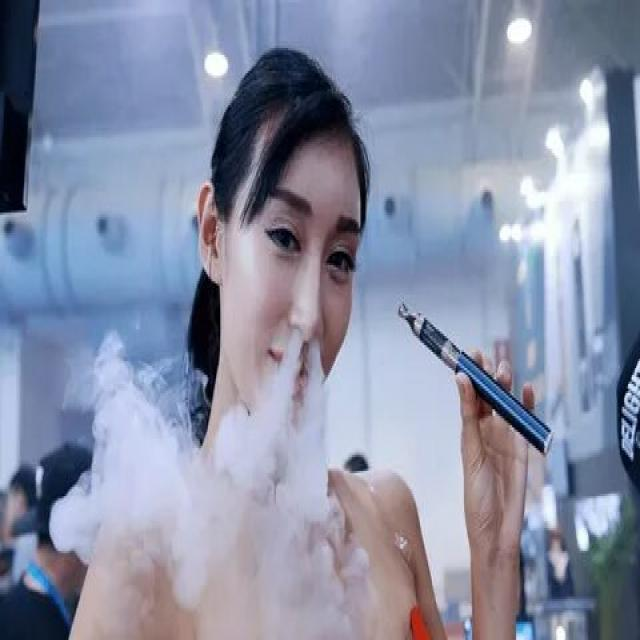cigarette: (397, 295, 556, 462)
